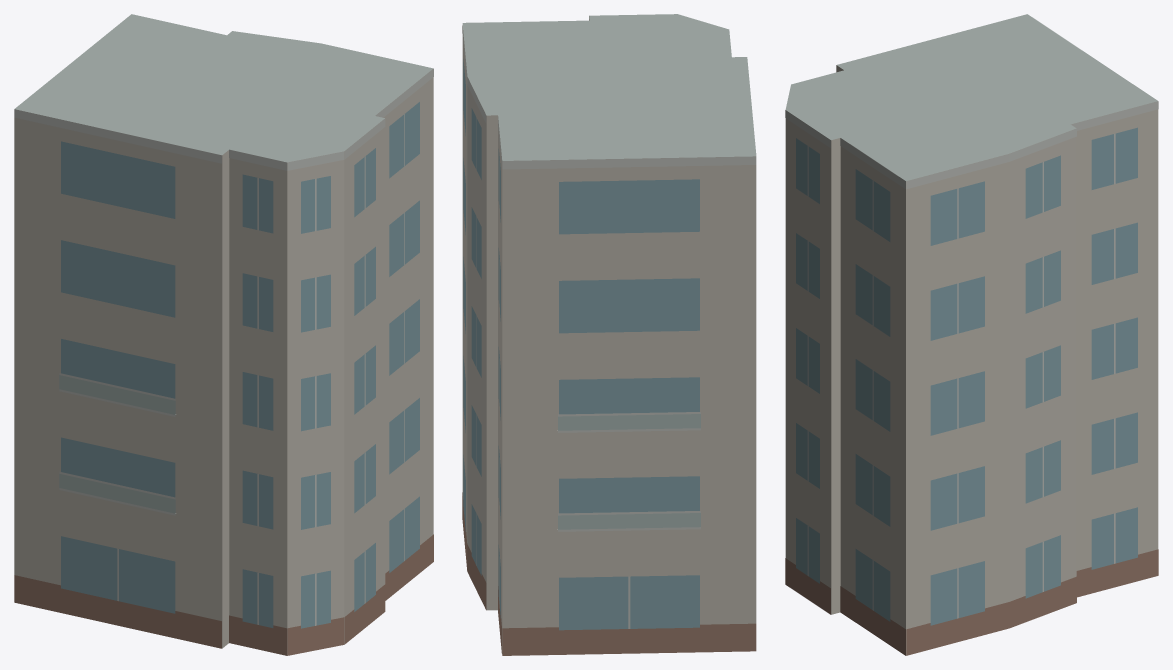
Rendered from survey-upis-32655136.glb.
3 renders of one model, left to right at view 1: azimuth 30°, elevation 25°; view 2: azimuth 150°, elevation 25°; view 3: azimuth 270°, elevation 25°, orthographic. The views are drawn at different scales.
Parts seen in each view (by area): view 1: survey-upis-32655136.tmp; view 2: survey-upis-32655136.tmp; view 3: survey-upis-32655136.tmp.
Part boxes in pixels (x1,y1,x2,y2): survey-upis-32655136.tmp: (14, 14, 433, 655); survey-upis-32655136.tmp: (462, 14, 756, 655); survey-upis-32655136.tmp: (785, 14, 1158, 655).
Bounding box in the file's own units: 10.74 × 14.2 × 10.12.
